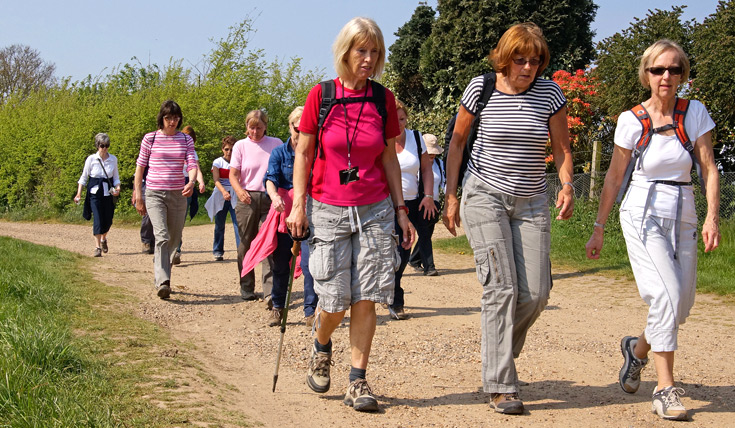feet: (614, 320, 701, 425), (296, 330, 385, 417), (470, 342, 535, 416), (261, 294, 322, 330), (232, 279, 283, 303), (208, 242, 261, 264), (148, 270, 179, 302), (375, 291, 408, 321), (406, 253, 442, 275), (86, 234, 112, 258)
